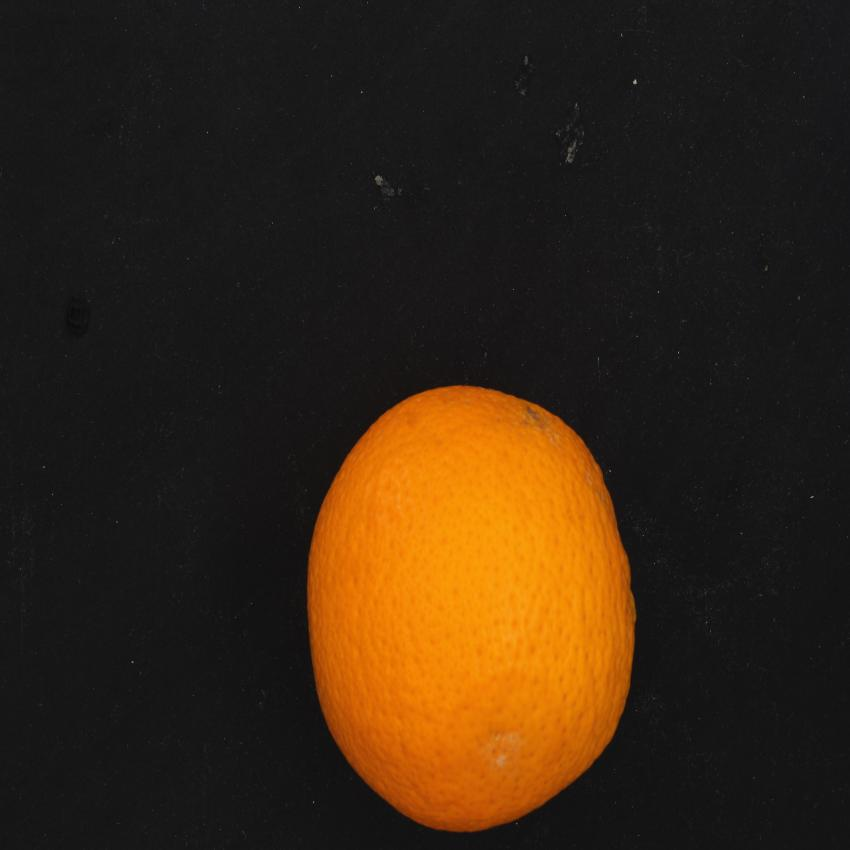Mal estado: (287, 372, 643, 842)
